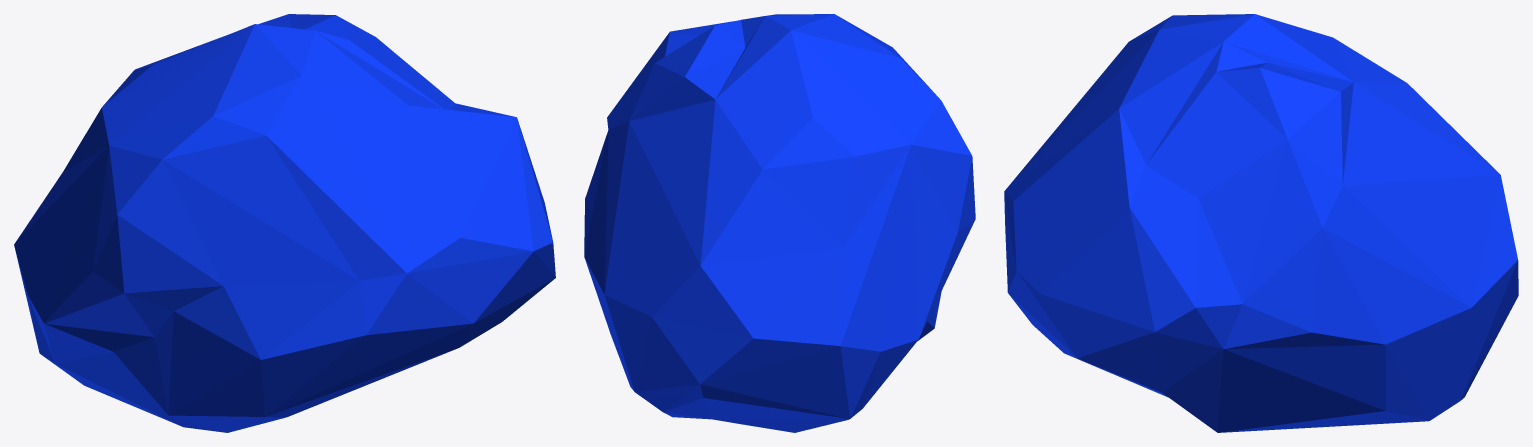
The model's file is SM_emissive_rock_16.fbx.
3 renders of one model, left to right at view 1: azimuth 30°, elevation 25°; view 2: azimuth 150°, elevation 25°; view 3: azimuth 270°, elevation 25°, orthographic. The views are drawn at different scales.
Visible parts, largest first — view 1: emissive_rock_16; view 2: emissive_rock_16; view 3: emissive_rock_16.
Part boxes in pixels (x1,y1,x2,y2): emissive_rock_16: (14, 14, 555, 432); emissive_rock_16: (584, 14, 975, 432); emissive_rock_16: (1004, 14, 1518, 432).
Bounding box in the file's own units: 172 × 156 × 184.
